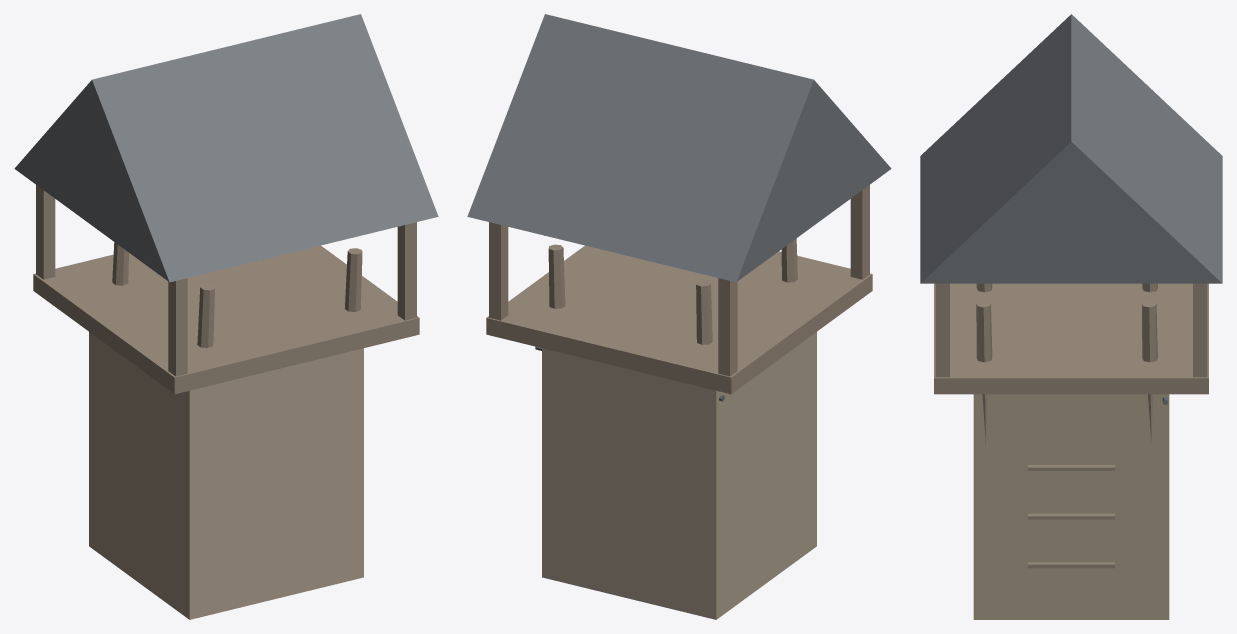
Rendered from wolves_watchtower.glb.
The picture shows the model from 3 angles, left to right: view 1: azimuth 30°, elevation 25°; view 2: azimuth 150°, elevation 25°; view 3: azimuth 270°, elevation 25°; orthographic projection. The views are drawn at different scales.
Visible parts, largest first — view 1: wolves_watchtower_material_02, wolves_watchtower_material_00, wolves_watchtower_material_01; view 2: wolves_watchtower_material_02, wolves_watchtower_material_00, wolves_watchtower_material_01; view 3: wolves_watchtower_material_02, wolves_watchtower_material_00, wolves_watchtower_material_01.
Boxes of the visible parts, left/top/right/bottom form: wolves_watchtower_material_02: left=14, top=14, right=438, bottom=282; wolves_watchtower_material_00: left=89, top=332, right=363, bottom=619; wolves_watchtower_material_01: left=33, top=185, right=419, bottom=394; wolves_watchtower_material_02: left=467, top=14, right=891, bottom=282; wolves_watchtower_material_00: left=542, top=332, right=816, bottom=619; wolves_watchtower_material_01: left=486, top=185, right=872, bottom=394; wolves_watchtower_material_02: left=920, top=14, right=1222, bottom=283; wolves_watchtower_material_00: left=973, top=394, right=1169, bottom=619; wolves_watchtower_material_01: left=934, top=283, right=1208, bottom=568.
Size of the model in its own units: 2.7 by 4.94 by 2.7.
